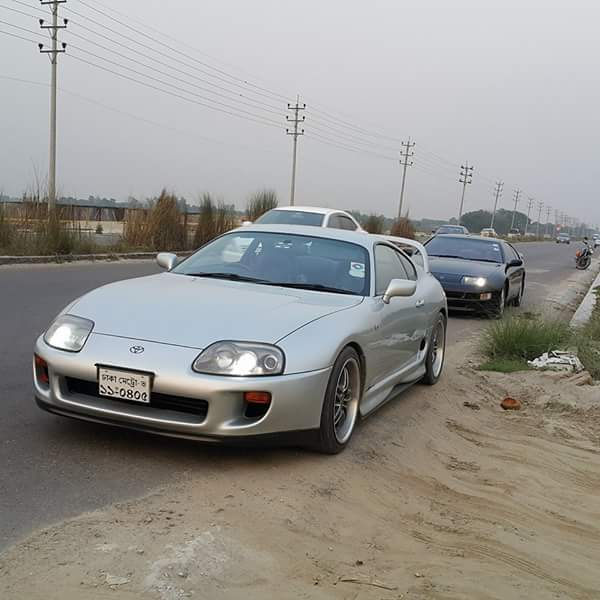registration_plate: (97, 365, 150, 403)
